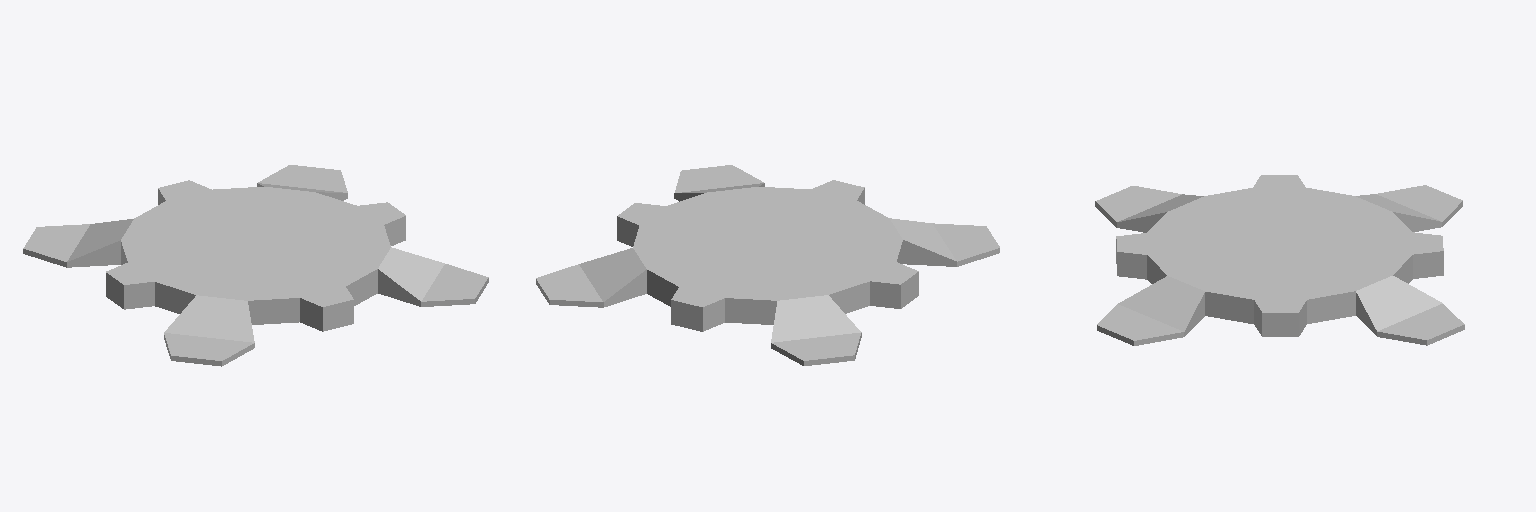
The model's file is Teleporter.obj.
The picture shows the model from 3 angles: view 1: azimuth 30°, elevation 25°; view 2: azimuth 150°, elevation 25°; view 3: azimuth 270°, elevation 25°; orthographic projection.
Parts seen in each view (by area): view 1: Teleporter_low_Cube.14708; view 2: Teleporter_low_Cube.14708; view 3: Teleporter_low_Cube.14708.
Boxes of the visible parts, x1=… form: Teleporter_low_Cube.14708: x1=23, y1=165, x2=488, y2=366; Teleporter_low_Cube.14708: x1=536, y1=165, x2=999, y2=365; Teleporter_low_Cube.14708: x1=1095, y1=175, x2=1464, y2=345.
Size of the model in its own units: 2.04 by 0.15 by 2.04.